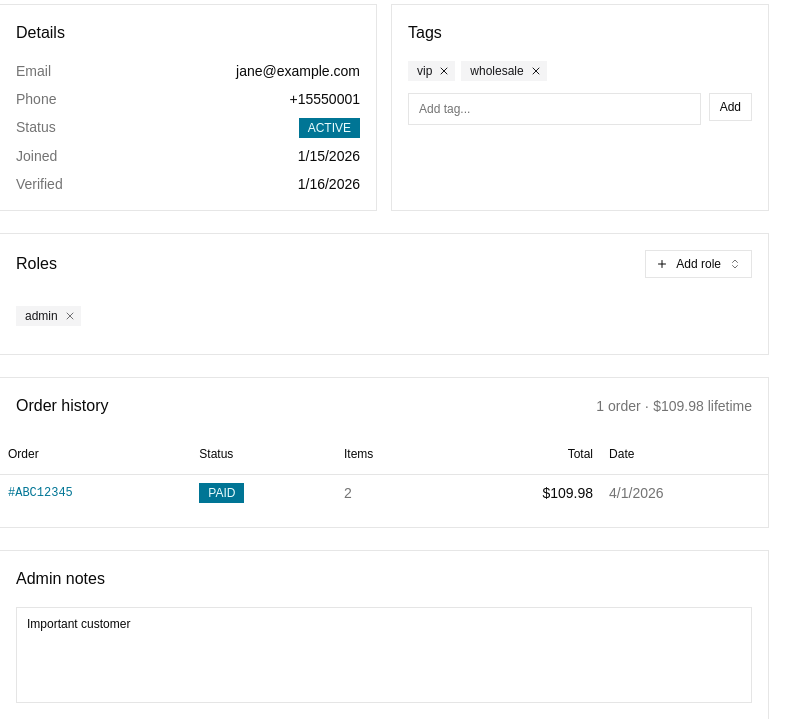
Test: CustomerDetailPage › editing notes shows Save and Discard buttons
(page scrolled)
Step 1. Type " more" into the text box showing "Important customer" → (384, 654), box [16, 606, 752, 702]
(page scrolled)
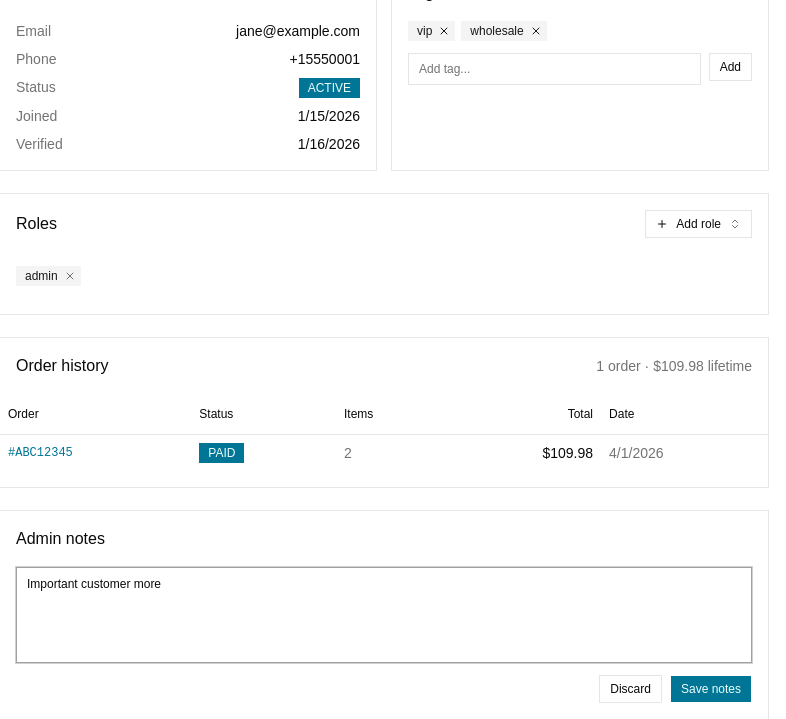
Now the button "Save notes" is shown, box [670, 674, 752, 702]
Now the button "Discard" is shown, box [599, 674, 662, 702]
